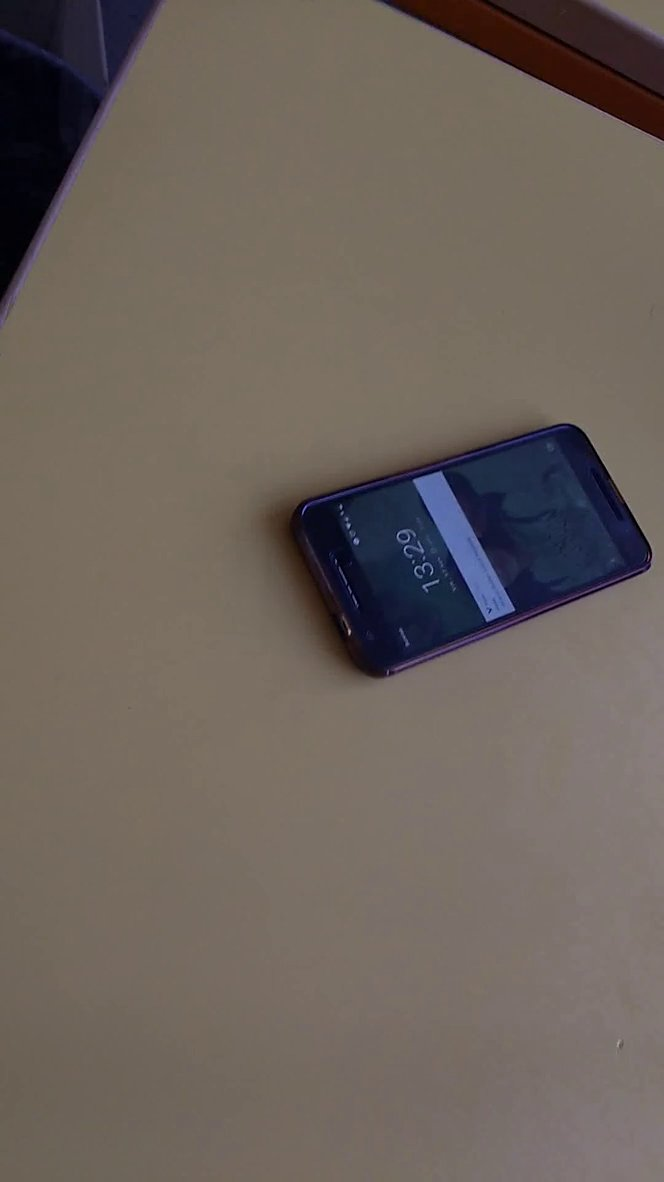phone: (281, 401, 664, 695)
